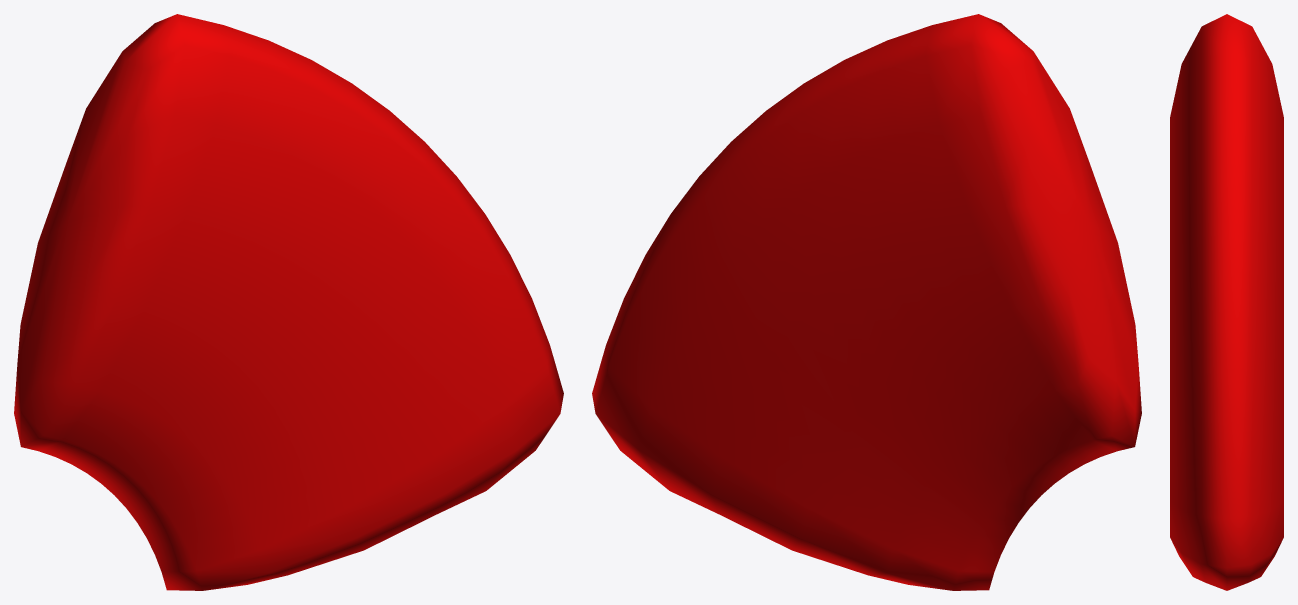
File: Red.glb
3 renders of one model, left to right at view 1: azimuth 30°, elevation 25°; view 2: azimuth 150°, elevation 25°; view 3: azimuth 270°, elevation 25°, orthographic. The views are drawn at different scales.
Parts seen in each view (by area): view 1: Red; view 2: Red; view 3: Red.
Boxes of the visible parts, x1,y1,x2,y2 form: Red: (14, 14, 563, 590); Red: (592, 14, 1141, 590); Red: (1170, 14, 1283, 590).
Size of the model in its own units: 82.58 by 84.19 by 17.92.
